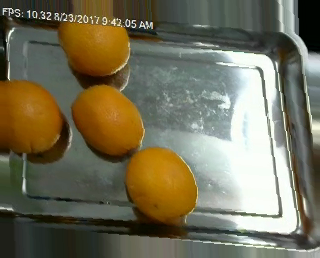Orange: (126, 146, 198, 222), (72, 83, 144, 155), (0, 78, 61, 154)
